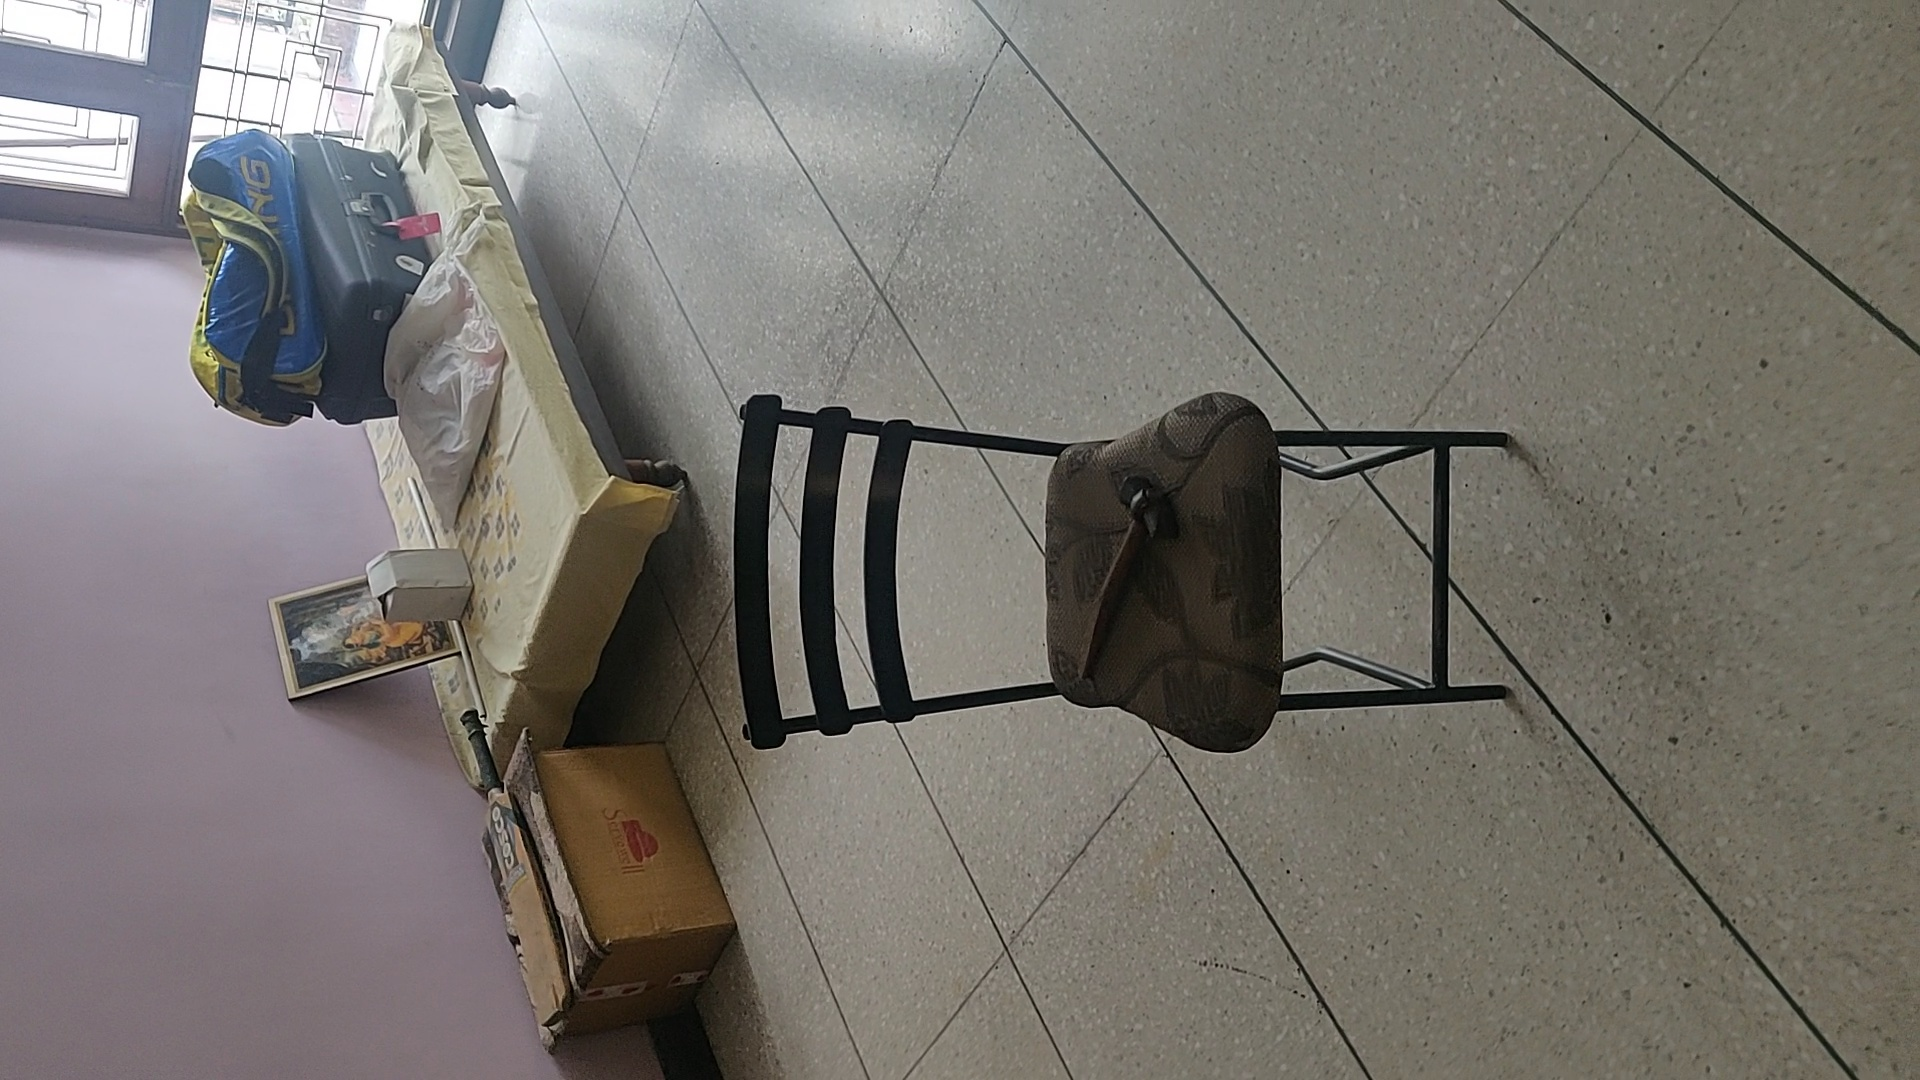hammer: (1075, 471, 1178, 680)
